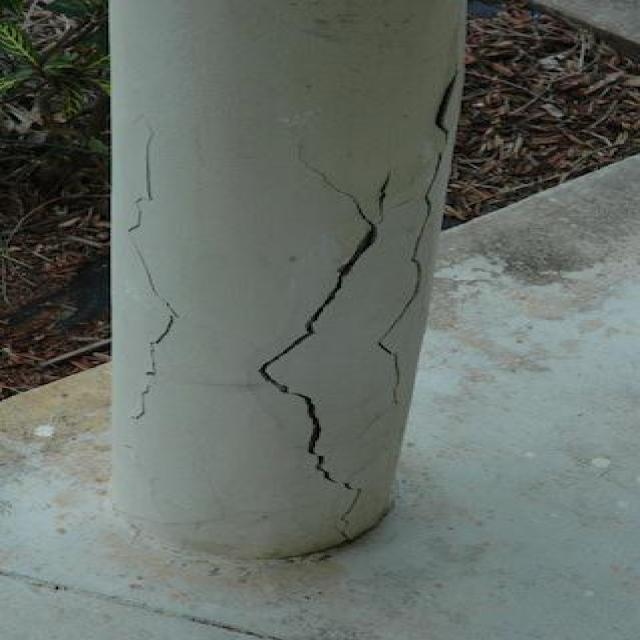crack: (251, 224, 382, 451), (376, 149, 447, 406), (429, 68, 461, 138), (315, 455, 363, 493)
